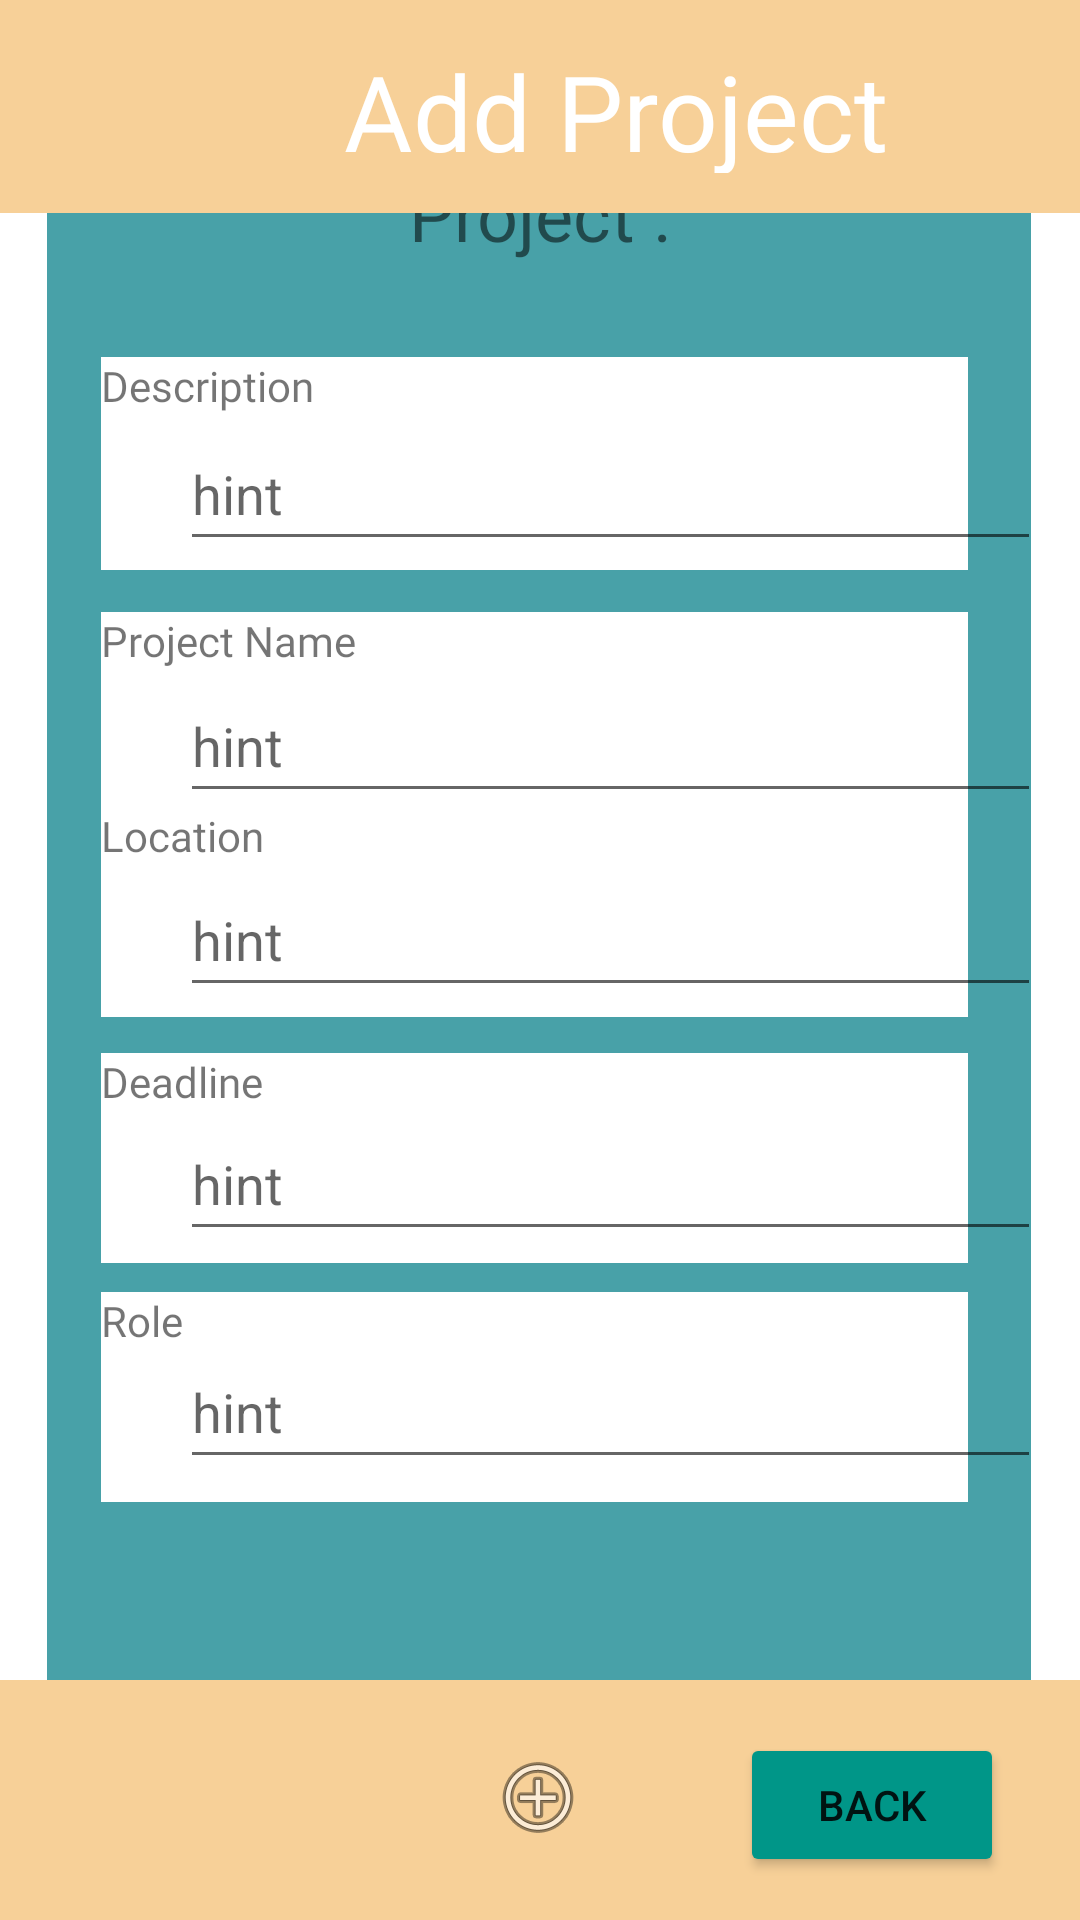

Screen size 1080w x 1920h. Icon name, then its box in pixels as (x1, y1, x2, y2):
add: (502, 1762, 574, 1833)
